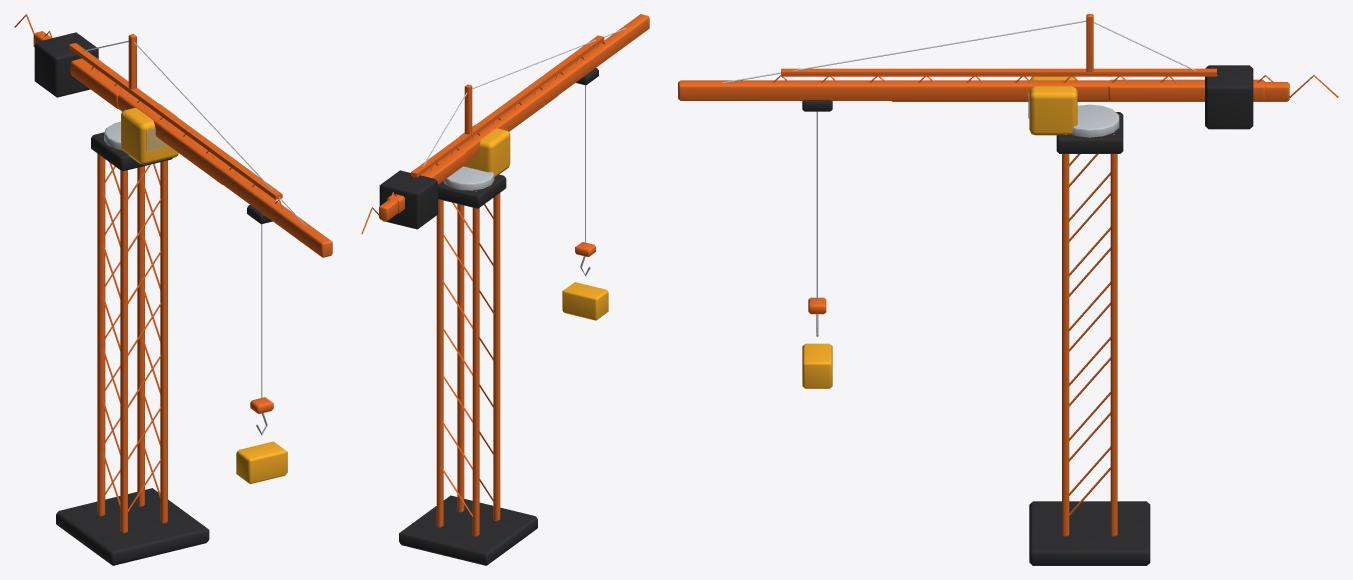
File: crane_toy.glb
The picture shows the model from 3 angles, left to right: view 1: azimuth 30°, elevation 25°; view 2: azimuth 150°, elevation 25°; view 3: azimuth 270°, elevation 25°; orthographic projection. The views are drawn at different scales.
Visible parts, largest first — view 1: crane_toy; view 2: crane_toy; view 3: crane_toy.
Part boxes in pixels (x1,y1,x2,y2): crane_toy: (14,14,332,565); crane_toy: (361,14,649,565); crane_toy: (678,14,1338,565).
Bounding box in the file's own units: 2 × 9.6 × 10.91.
